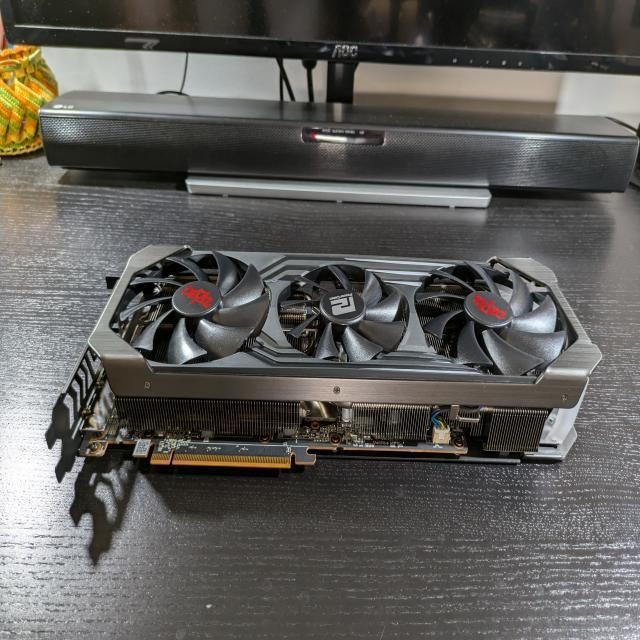GPU: (49, 234, 601, 476)
